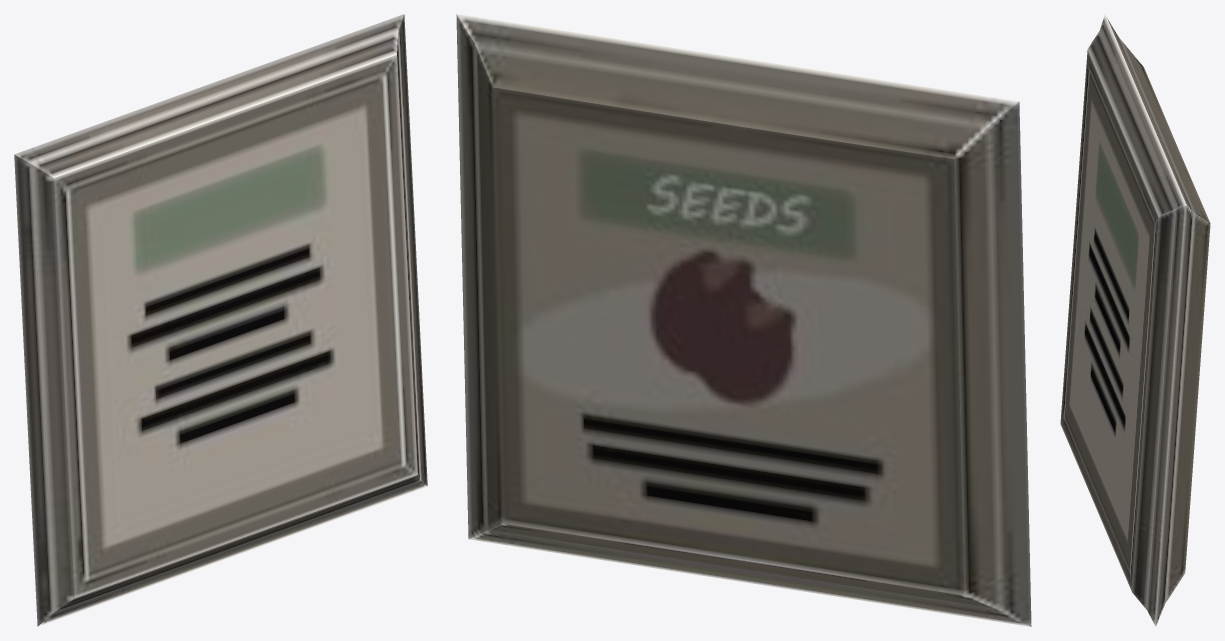
Rendered from Textured_PuzzleSeedbagClose.fbx.
3 renders of one model, left to right at view 1: azimuth 30°, elevation 25°; view 2: azimuth 150°, elevation 25°; view 3: azimuth 270°, elevation 25°, orthographic. The views are drawn at different scales.
Visible parts, largest first — view 1: Seedbag5; view 2: Seedbag5; view 3: Seedbag5.
Boxes of the visible parts, <box> form: Seedbag5: <box>14,14,427,626</box>; Seedbag5: <box>456,14,1031,626</box>; Seedbag5: <box>1060,14,1210,626</box>.
Size of the model in its own units: 5.82 by 5.83 by 1.89.
